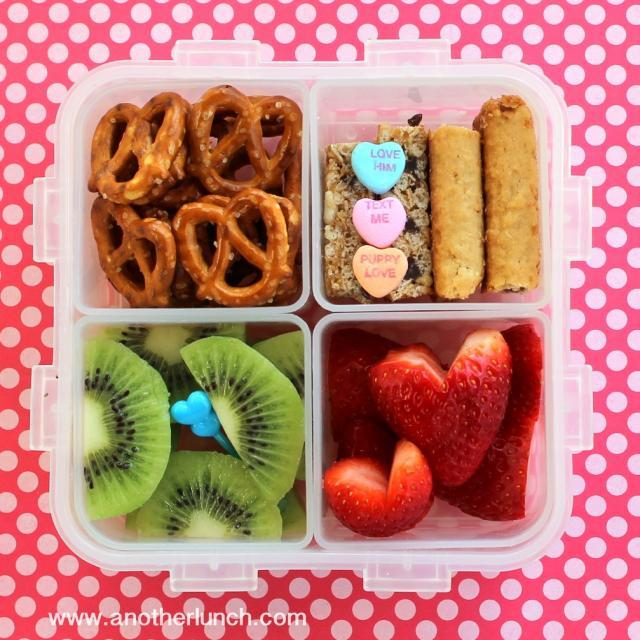Salatini: (86, 84, 301, 309)
